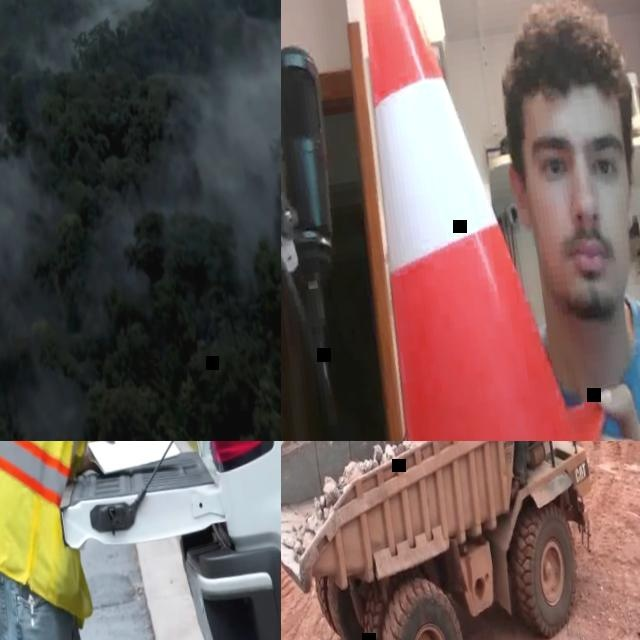NO-Hardhat: (499, 0, 627, 132)
NO-Mask: (544, 220, 639, 324)
NO-Safety Vest: (544, 312, 640, 441)
Person: (303, 0, 640, 441), (0, 441, 241, 640)
Safety Cone: (281, 0, 621, 441)
Safety Vest: (0, 441, 140, 525)
machinery: (281, 441, 628, 640)
vehicle: (15, 441, 281, 640)
